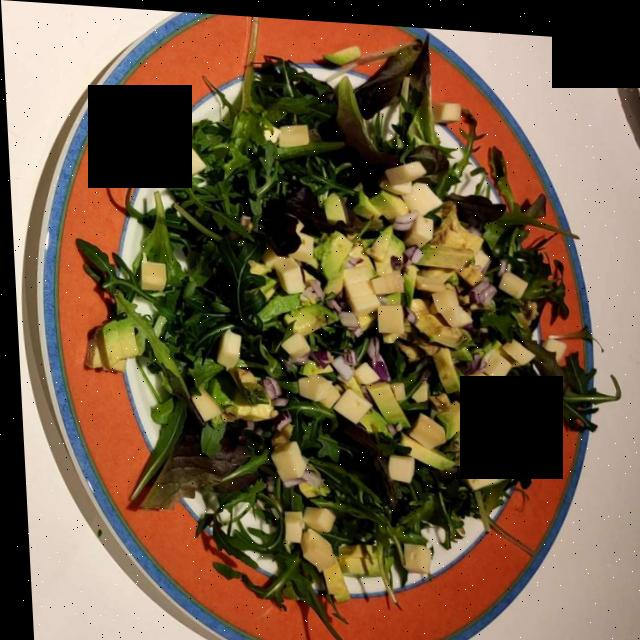avocado: (252, 216, 475, 443)
cheese: (265, 161, 532, 580)
mixed-salad-chopped-without-sauce: (142, 49, 607, 601)
onion: (236, 266, 489, 431)
